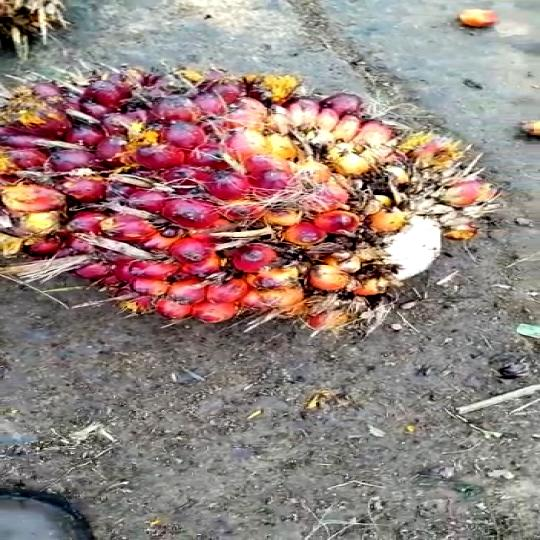masak: (0, 65, 499, 333)
